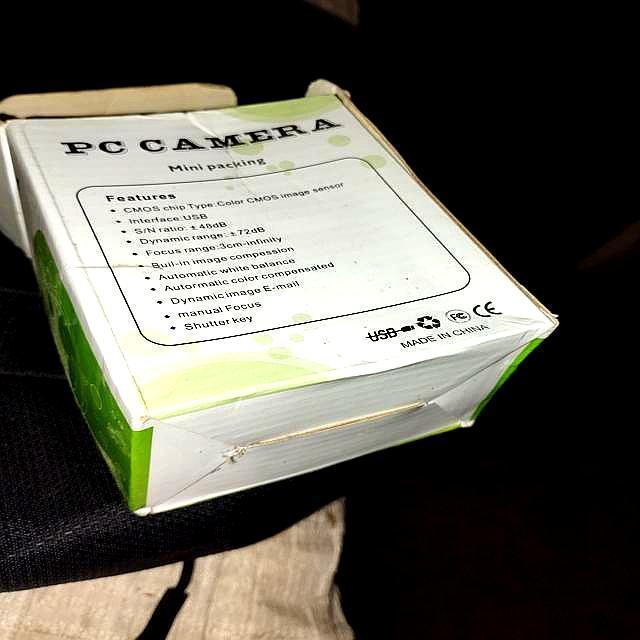Biodegradable: (1, 79, 555, 515)
